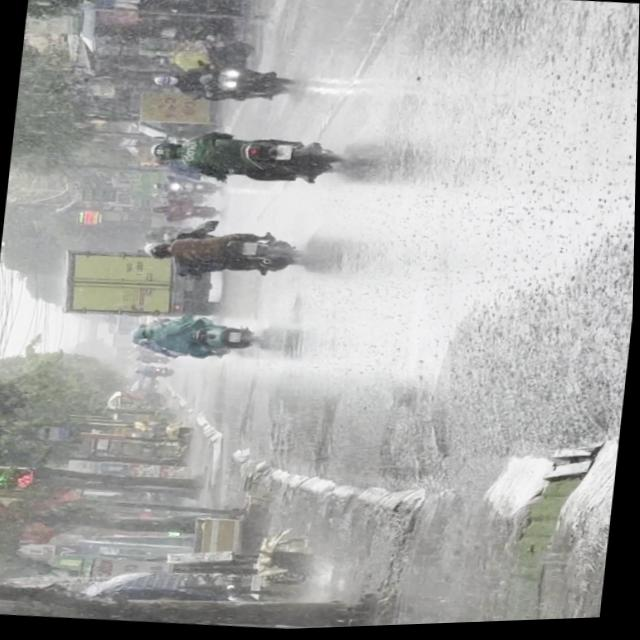helmet: (147, 140, 178, 162), (141, 241, 169, 259)
licenseplate: (143, 121, 351, 196), (137, 220, 306, 286)
nohelmet: (273, 146, 290, 161), (241, 243, 256, 257)
